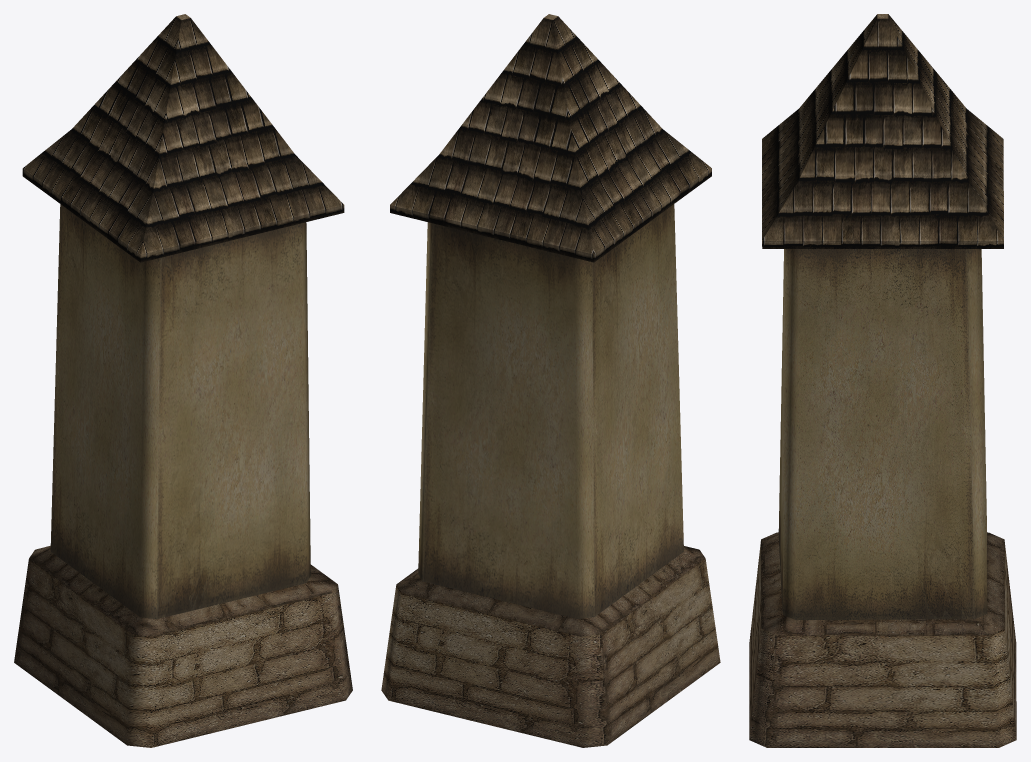
Rendered from Tower_08.fbx.
3 renders of one model, left to right at view 1: azimuth 30°, elevation 25°; view 2: azimuth 150°, elevation 25°; view 3: azimuth 270°, elevation 25°, orthographic. The views are drawn at different scales.
Parts seen in each view (by area): view 1: Wall_Tower_01; view 2: Wall_Tower_01; view 3: Wall_Tower_01.
Part boxes in pixels (x1,y1,x2,y2): Wall_Tower_01: [14, 14, 352, 747]; Wall_Tower_01: [381, 14, 720, 747]; Wall_Tower_01: [749, 14, 1016, 747].
Bounding box in the file's own units: 4 × 11.16 × 4.
